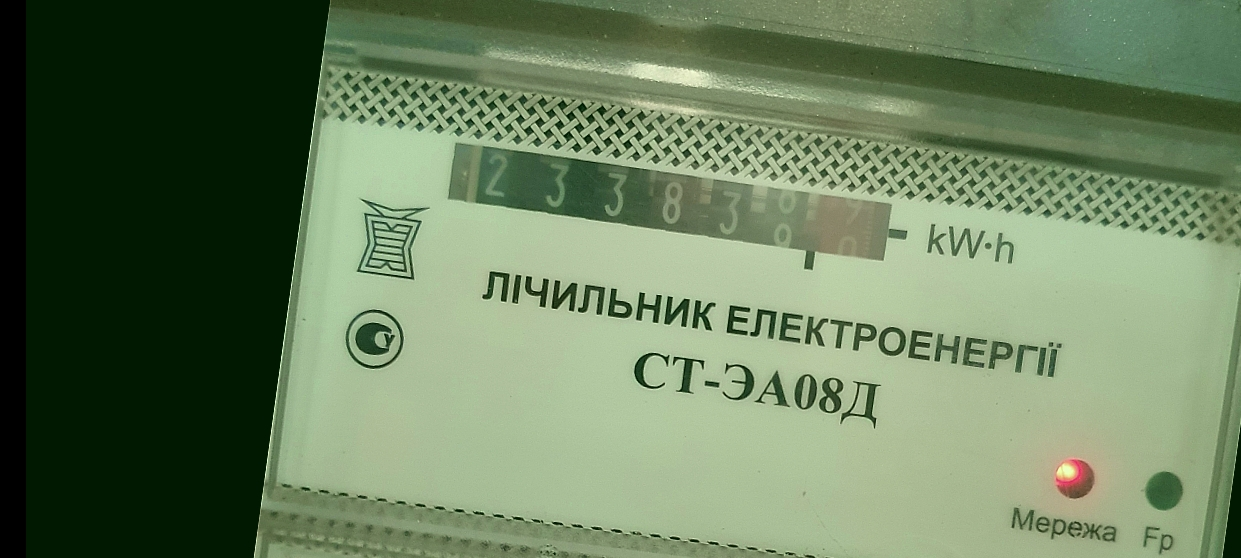0: (834, 230, 862, 258)
2: (480, 148, 514, 200)
3: (540, 158, 573, 211), (600, 168, 631, 221), (714, 186, 746, 237)
8: (657, 177, 687, 226), (772, 187, 803, 217)
9: (767, 217, 798, 250), (838, 195, 866, 227)
screen: (432, 129, 912, 284)
